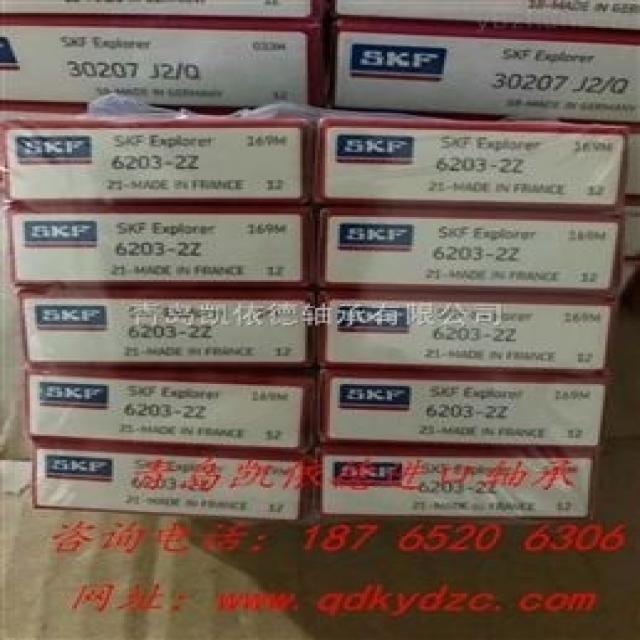box: (333, 15, 638, 124), (0, 17, 326, 116), (314, 119, 627, 211), (311, 206, 624, 298), (2, 120, 320, 203), (4, 203, 312, 287), (314, 290, 617, 375), (26, 368, 312, 454), (315, 368, 612, 450), (21, 287, 316, 368), (309, 450, 602, 524), (30, 444, 311, 519), (333, 1, 638, 33), (0, 1, 323, 24)
